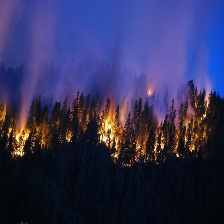fire: (95, 109, 131, 159), (5, 117, 39, 163), (179, 103, 204, 155), (142, 129, 173, 157), (143, 85, 160, 97)
